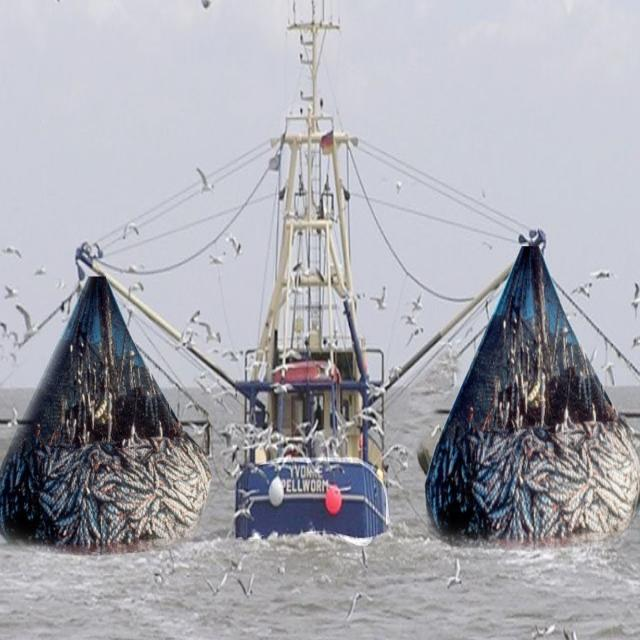boat: (70, 51, 538, 609)
